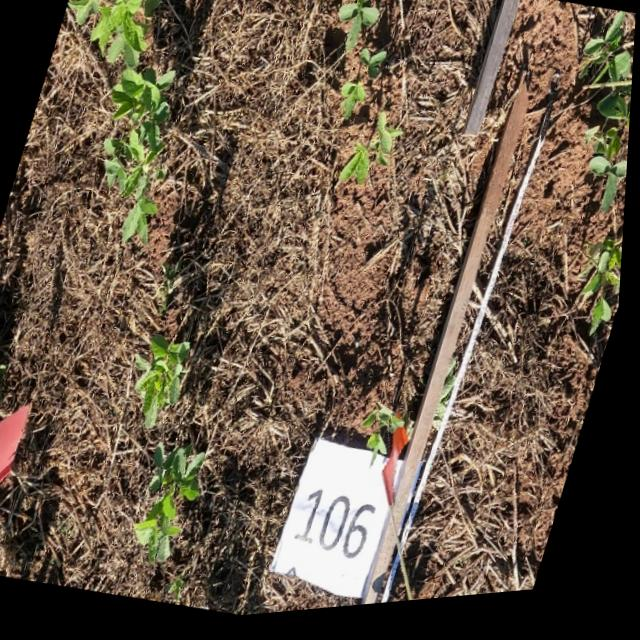soy_plant: (69, 0, 176, 245), (581, 22, 634, 222), (141, 449, 209, 565), (139, 338, 194, 431), (342, 120, 404, 191), (585, 248, 626, 345), (341, 57, 386, 126), (367, 410, 409, 467), (338, 0, 379, 57)
